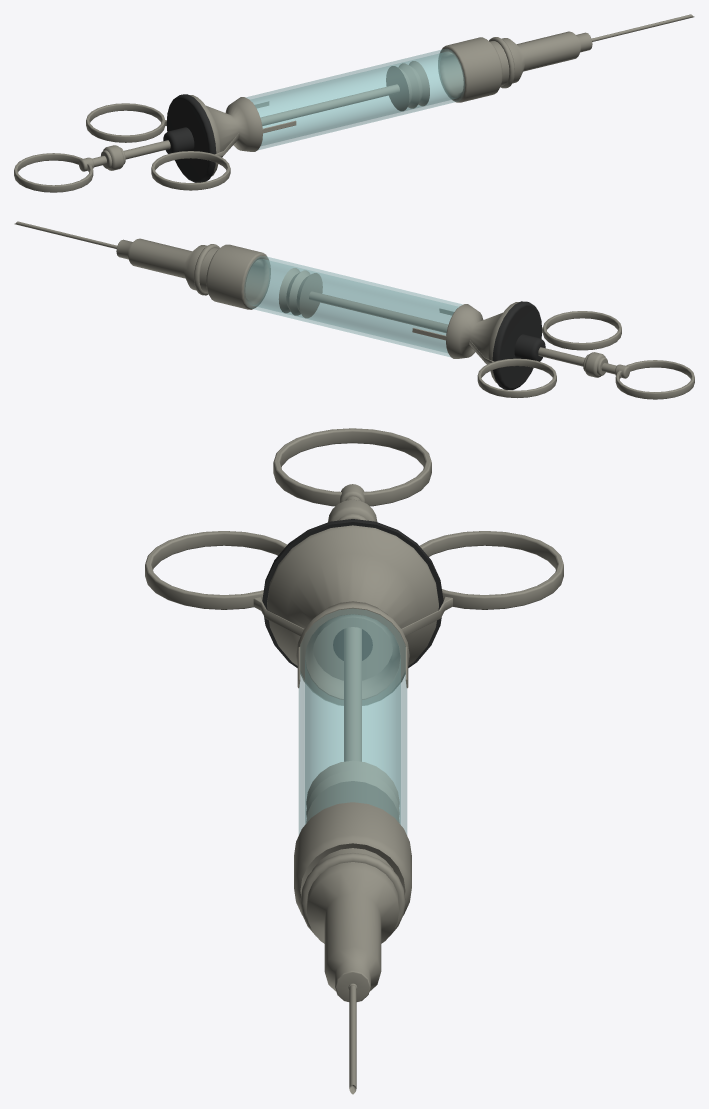
Rendered from Syringe.fbx.
3 views of the same model, one above another, from view 1: azimuth 30°, elevation 25°; view 2: azimuth 150°, elevation 25°; view 3: azimuth 270°, elevation 25° (orthographic). The views are drawn at different scales.
Visible parts, largest first — view 1: pCylinder1; view 2: pCylinder1; view 3: pCylinder1.
Part boxes in pixels (x1,y1,x2,y2): pCylinder1: [14, 14, 694, 192]; pCylinder1: [14, 221, 694, 399]; pCylinder1: [145, 428, 563, 1094].
Bounding box in the file's own units: 28.66 × 3.33 × 7.7.
